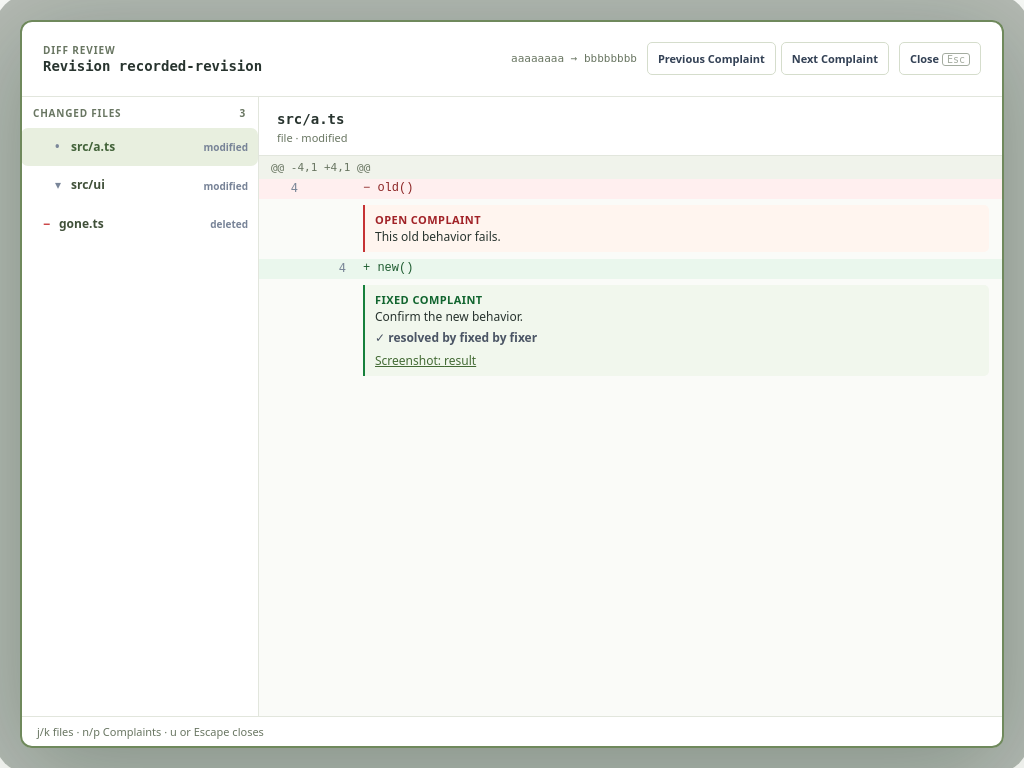
Test: DiffViewer › keeps directory and historical Complaints at their owning headers
Click the button "▾ src/ui modified": x=140, y=186 [21,166,258,205]
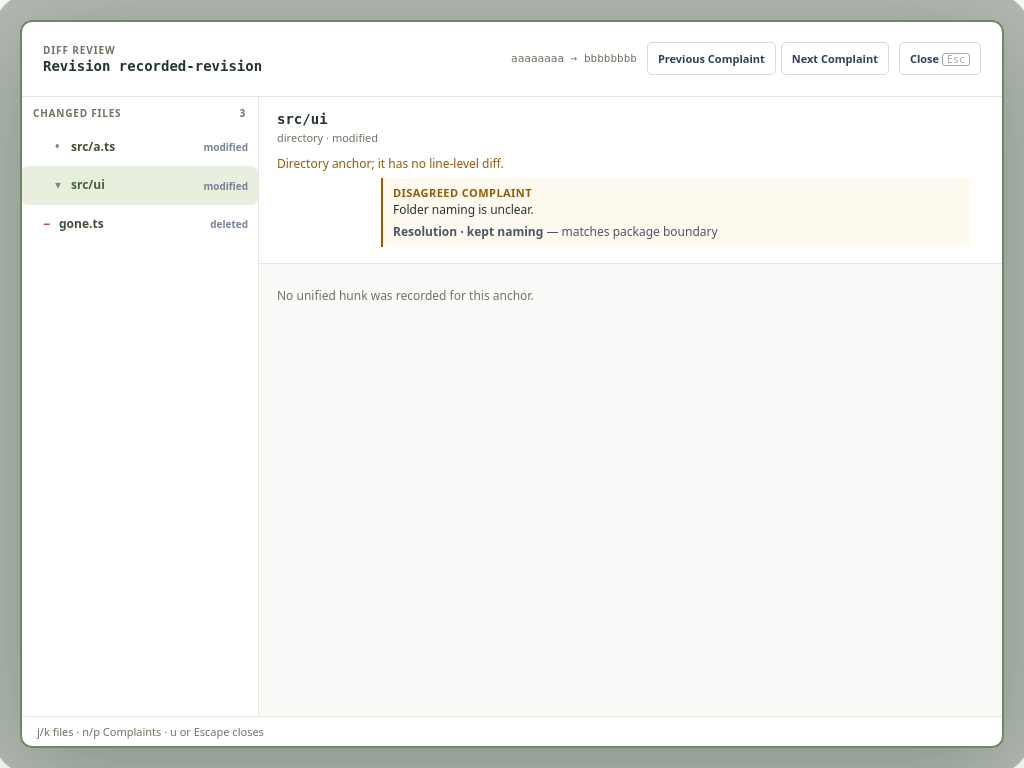
Check: the text "Folder naming is unclear." is shown, box [393,201,534,218]
Click the button "− gone.ts deleted": x=140, y=224 [21,205,258,244]
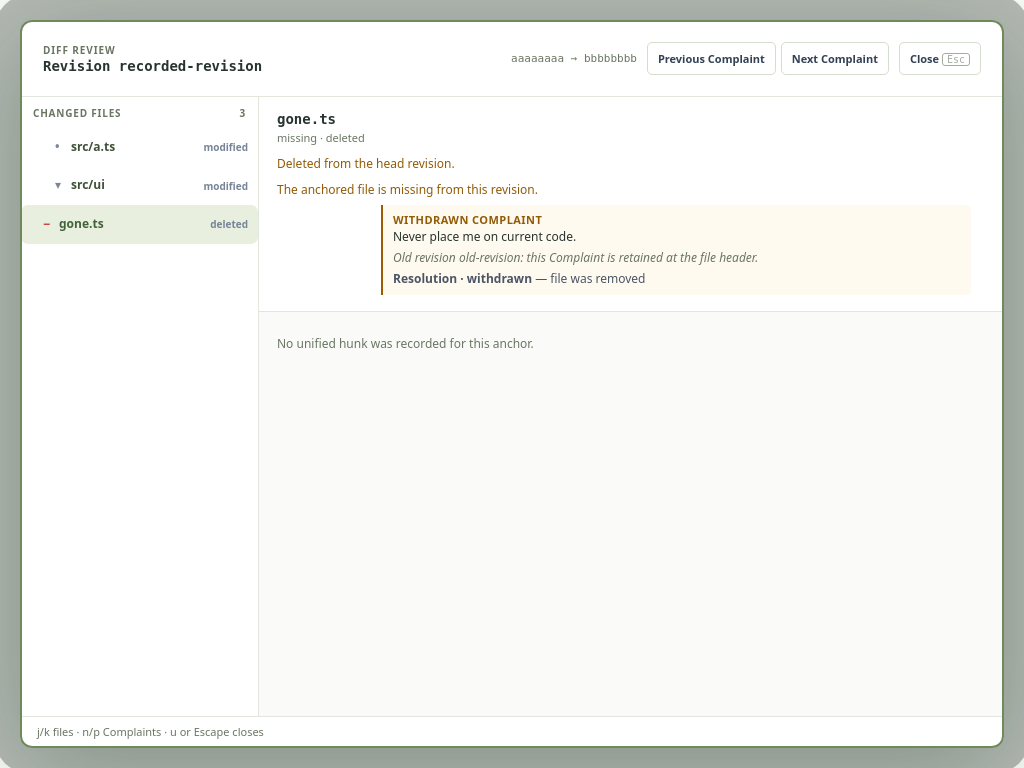
Check: the text "Never place me on current code." is shown, box [393,228,576,245]
Check: the text "Old revision old-revision" is shown, box [393,249,758,266]
